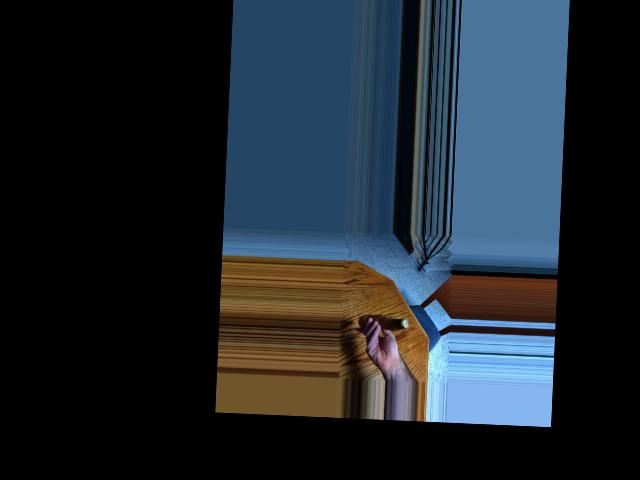sweet_potato: (362, 309, 403, 330)
